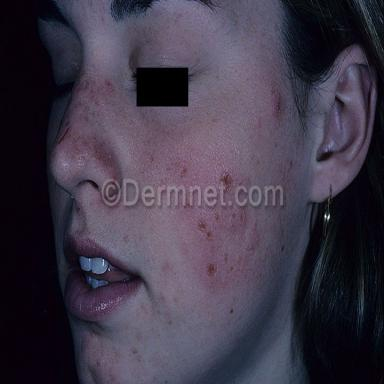acne: (271, 91, 285, 117), (221, 173, 233, 190), (207, 263, 217, 276), (198, 220, 205, 231), (207, 231, 211, 238)
